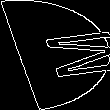M_W: (7, 27, 103, 83)
